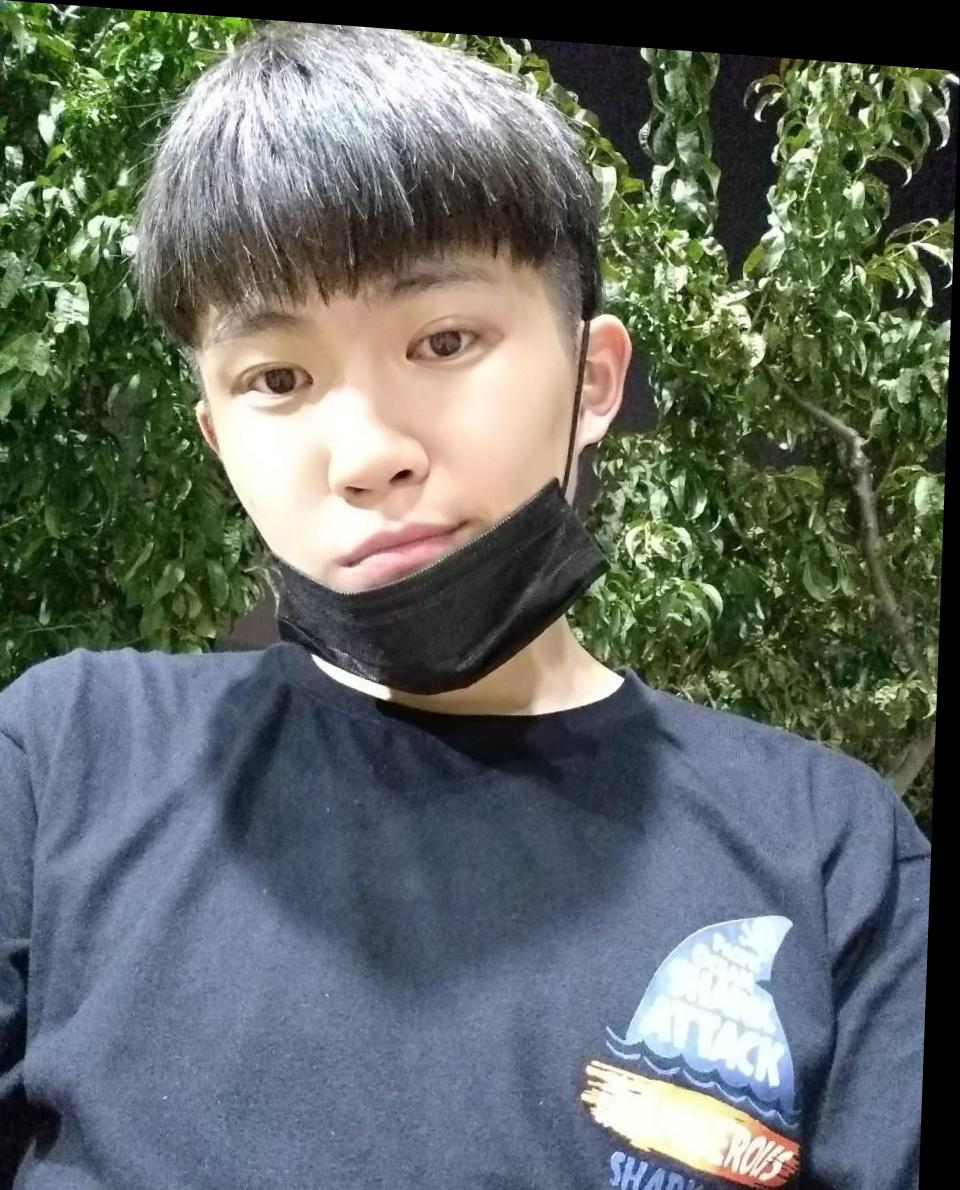WRONG: (188, 200, 594, 699)
